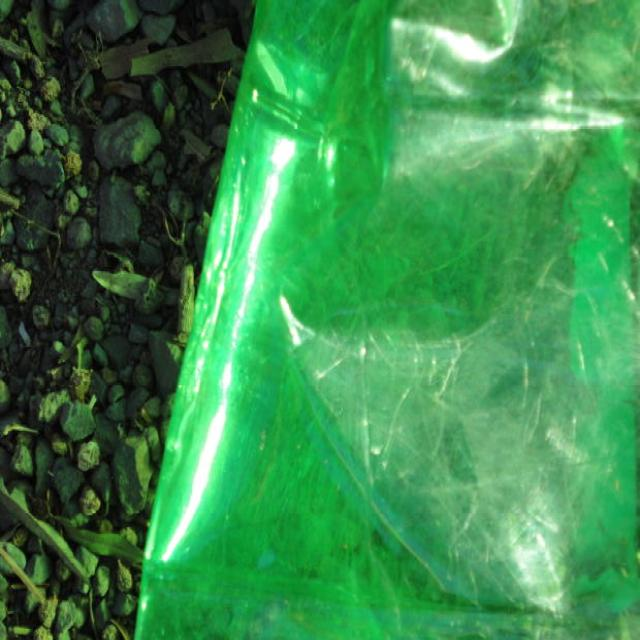plastic: (197, 12, 633, 622)
